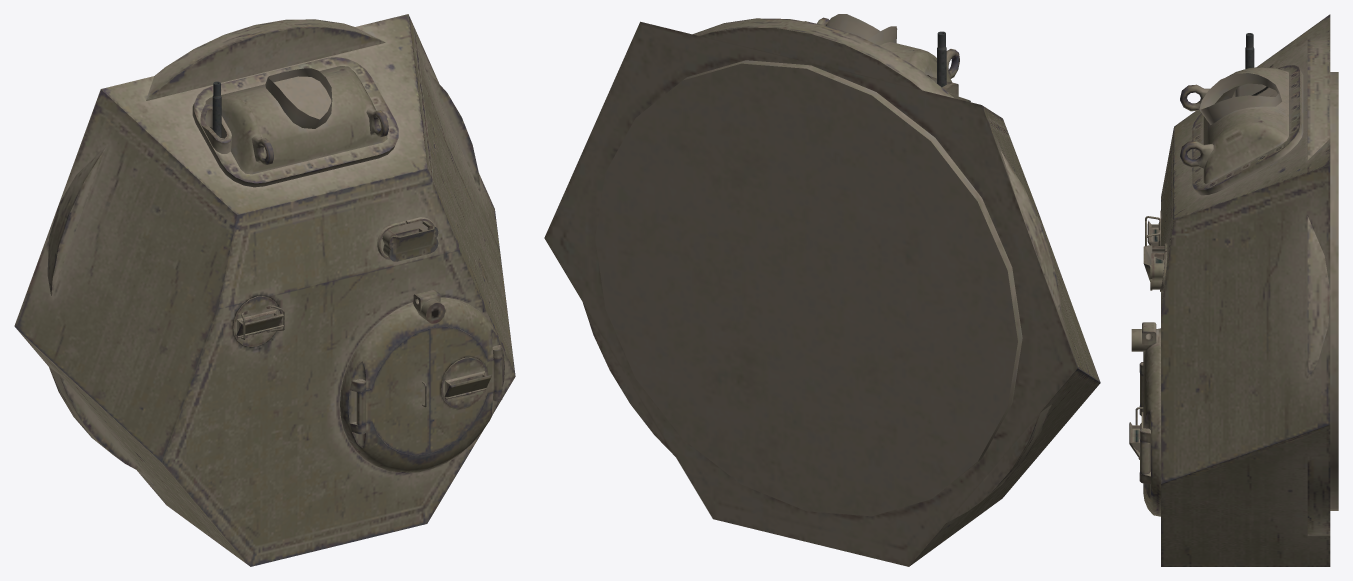
Rendered from Turret_01.glb.
3 renders of one model, left to right at view 1: azimuth 30°, elevation 25°; view 2: azimuth 150°, elevation 25°; view 3: azimuth 270°, elevation 25°, orthographic. The views are drawn at different scales.
Parts seen in each view (by area): view 1: set_0_group_0; view 2: set_0_group_0; view 3: set_0_group_0.
Boxes of the visible parts, <box> form: set_0_group_0: <box>14,14,515,566</box>; set_0_group_0: <box>544,14,1100,566</box>; set_0_group_0: <box>1129,14,1338,566</box>.
Bounding box in the file's own units: 2.58 × 2.35 × 0.9691.
Materials: 1 (1 with a texture image).
